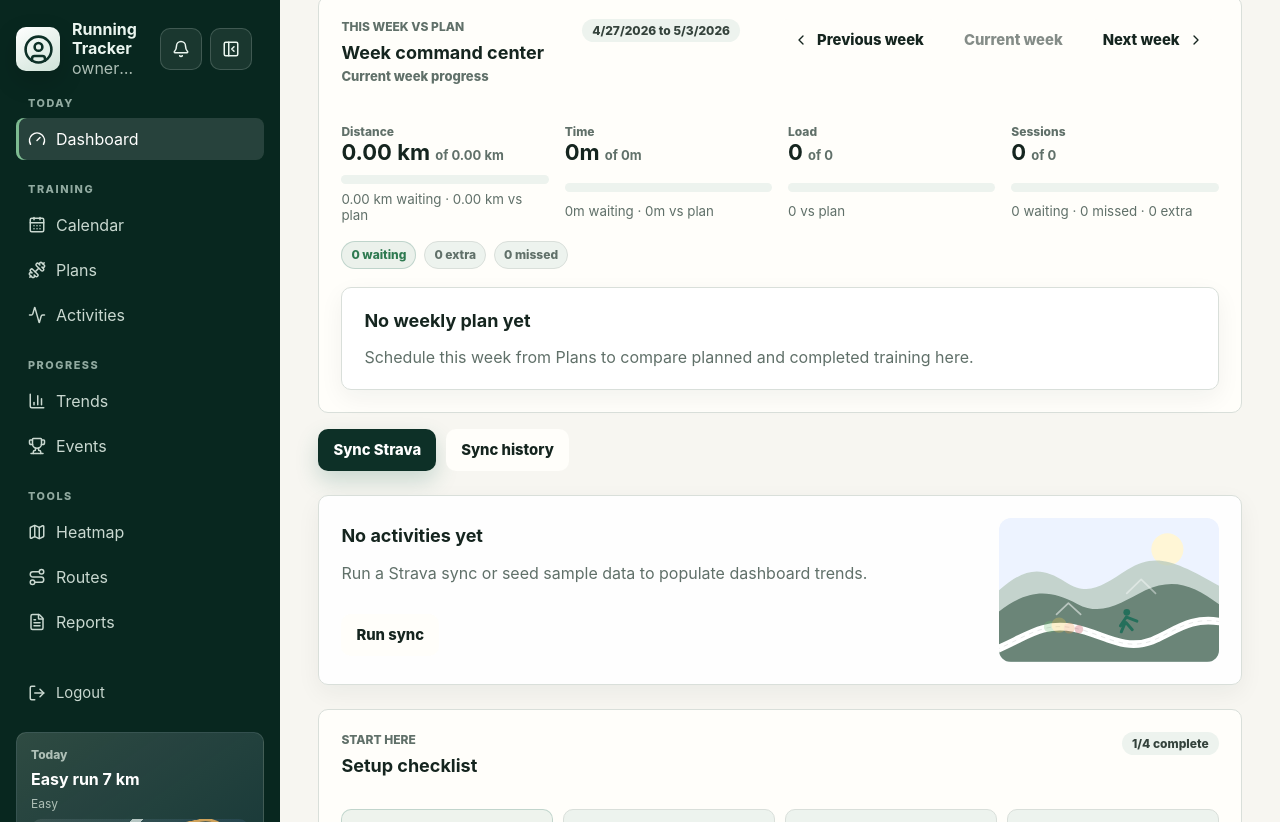
Test: DashboardPage › refreshes the today sidebar card after a Strava sync finishes
The image size is (1280, 822).
(page scrolled)
Expected: the text "Easy run 7 km" is shown, [31, 769, 140, 789]
Click the button "Sync Strava".
click(377, 450)  # box [318, 429, 436, 471]
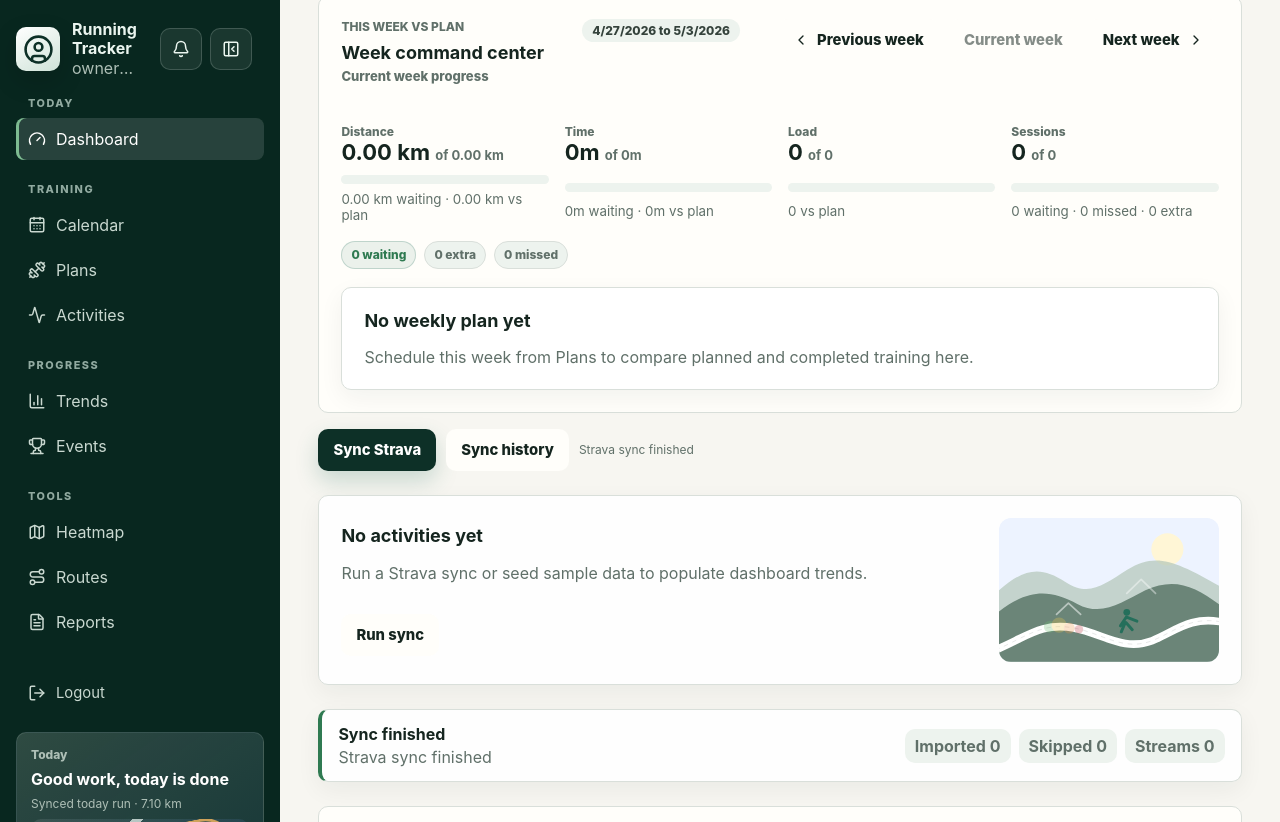
Result: the text "Good work, today is done" is shown at [31, 769, 249, 789]
Result: the text "Synced today run · 7.10 km" is shown at [31, 796, 182, 811]
